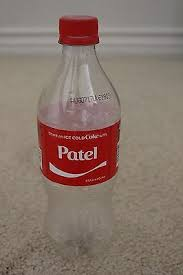HDPE Cap: (59, 15, 98, 37)
HDPE Ring: (59, 37, 98, 45)
PET Bottle: (37, 15, 122, 259)
PVC Label: (39, 129, 120, 184)
